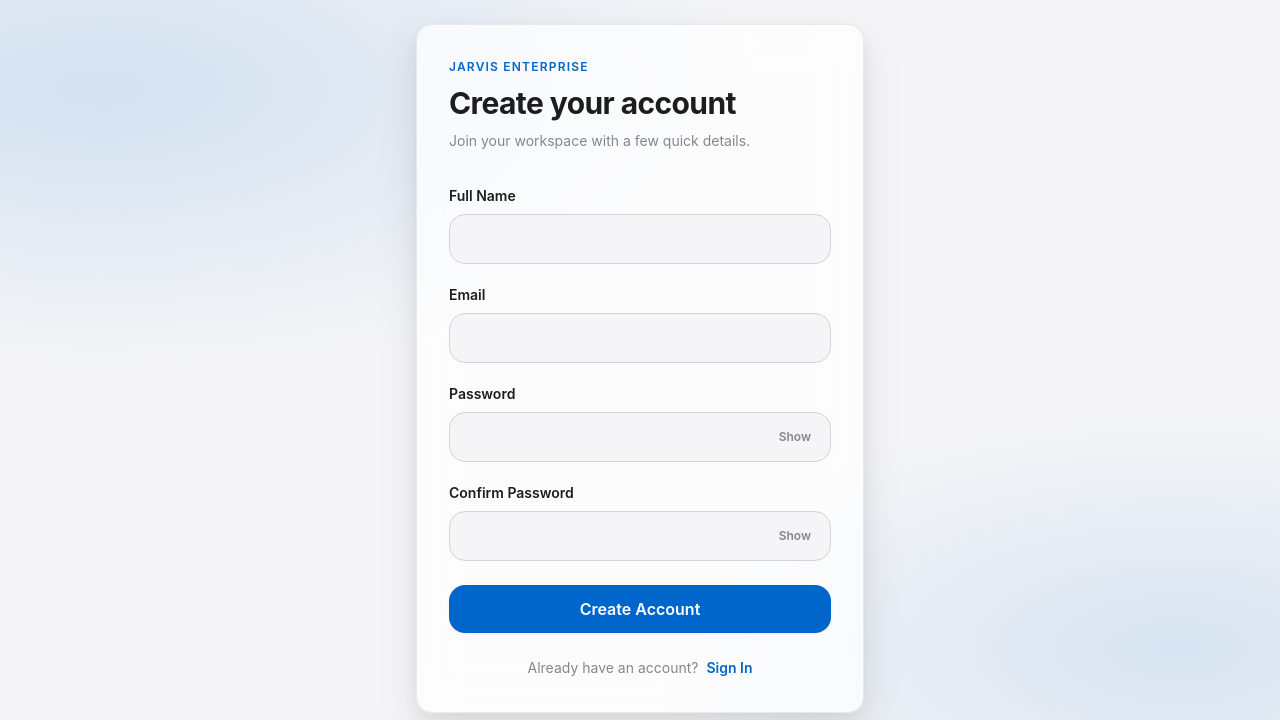
Scenario: SignupComponent › shows a validation message when passwords do not match
Type "Jane Doe" into the field with id "fullName" at [640, 239], box top-left (449, 214), bottom-right (831, 264)
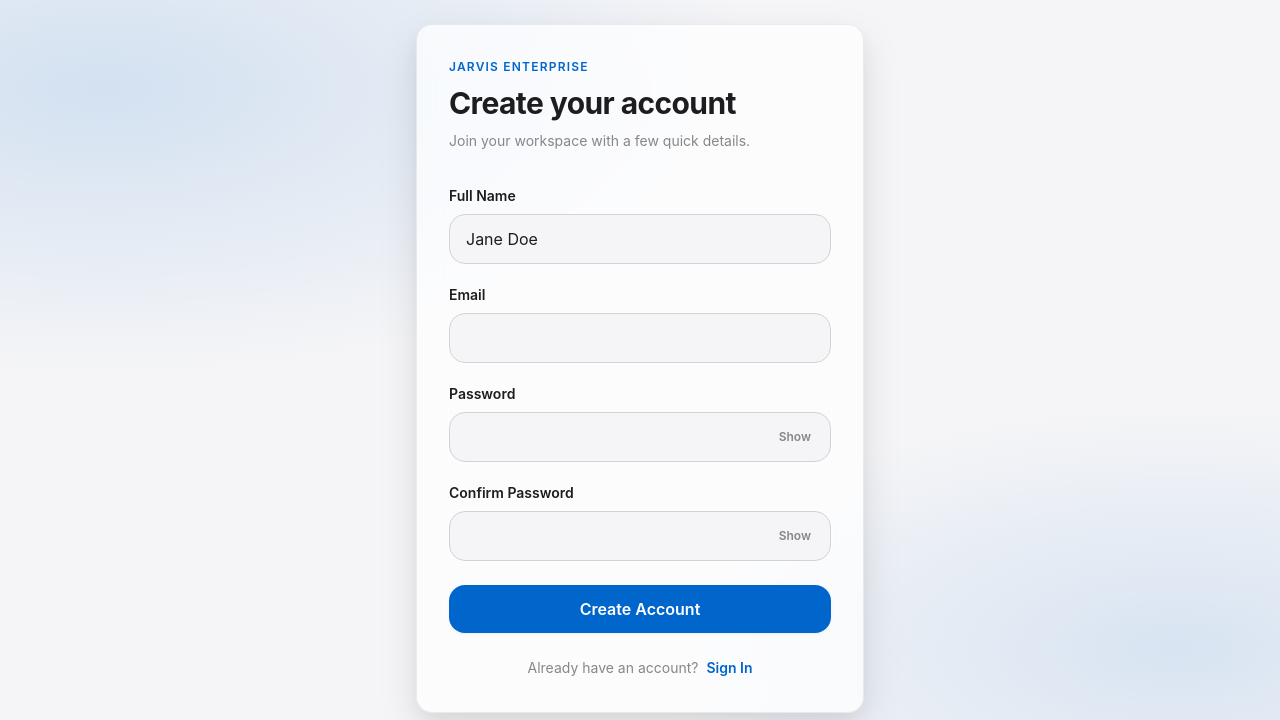
Type "jane.doe@example.com" into the field with id "email" at [640, 338], box top-left (449, 313), bottom-right (831, 363)
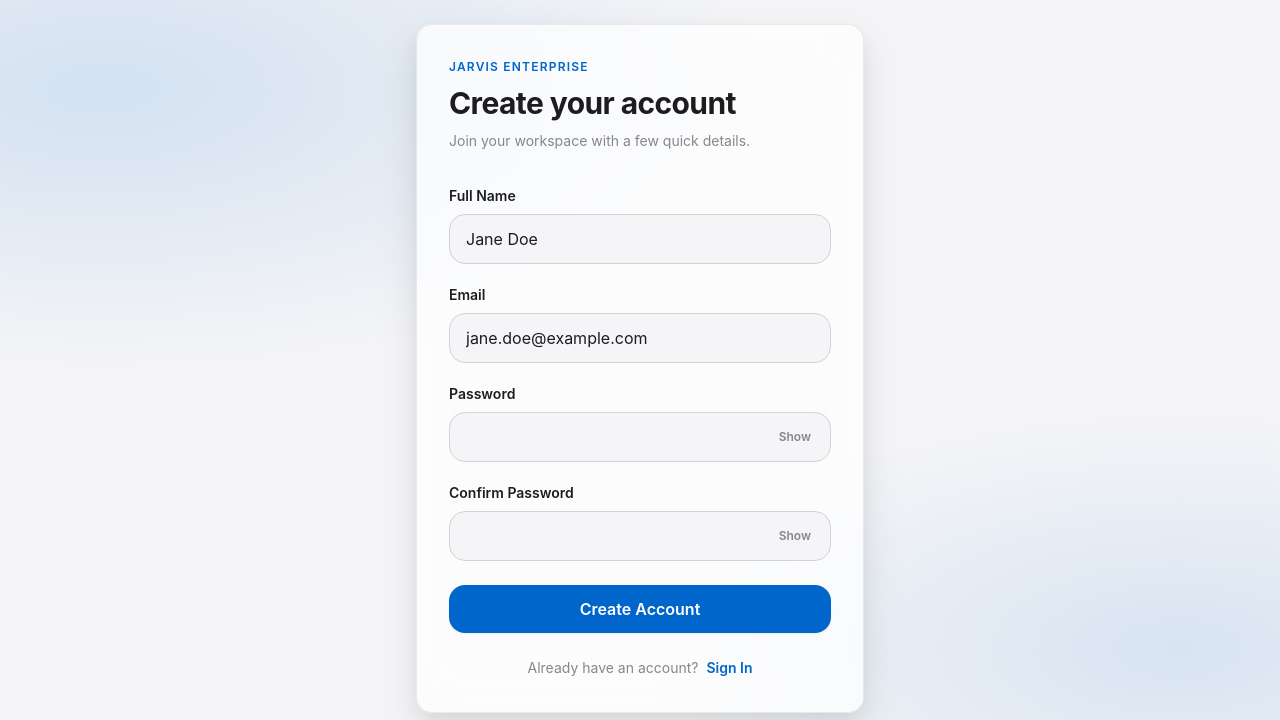
Type "SecurePass1" into the password field labelled "Password" at [640, 437], box top-left (449, 412), bottom-right (831, 462)
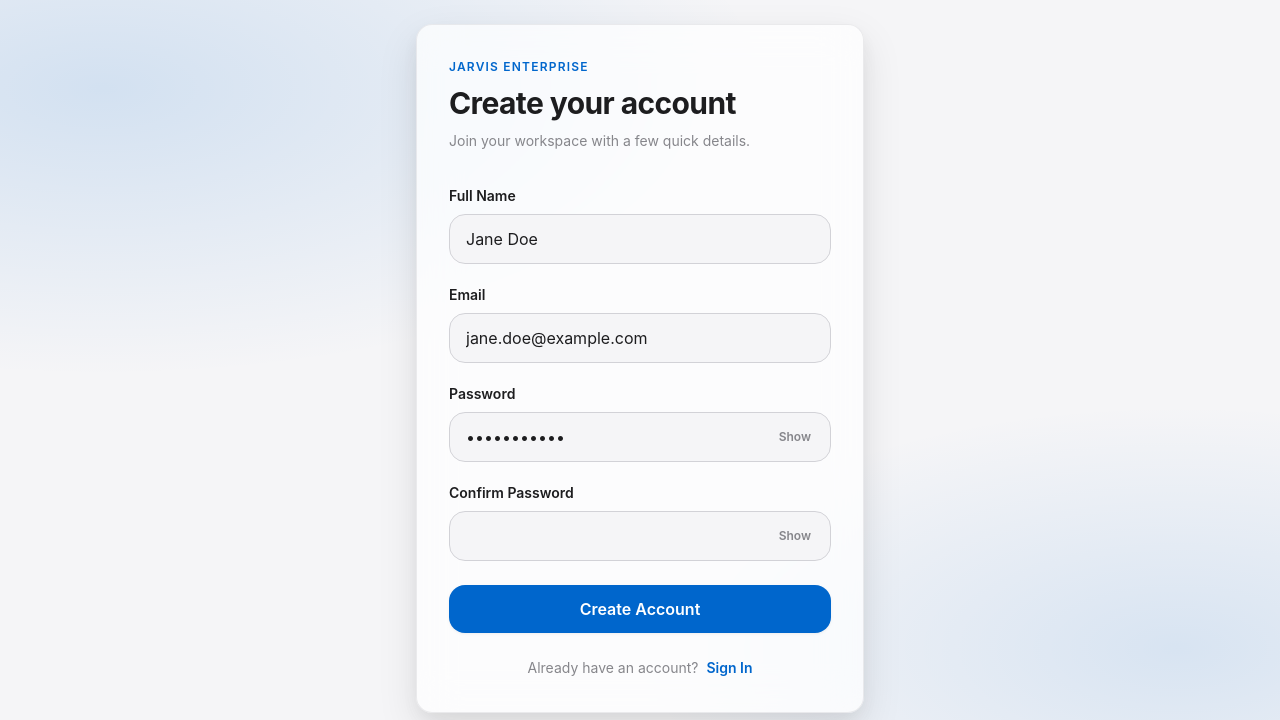
Type "DifferentPass1" into the password field with id "confirmPassword" at [640, 536], box top-left (449, 511), bottom-right (831, 561)
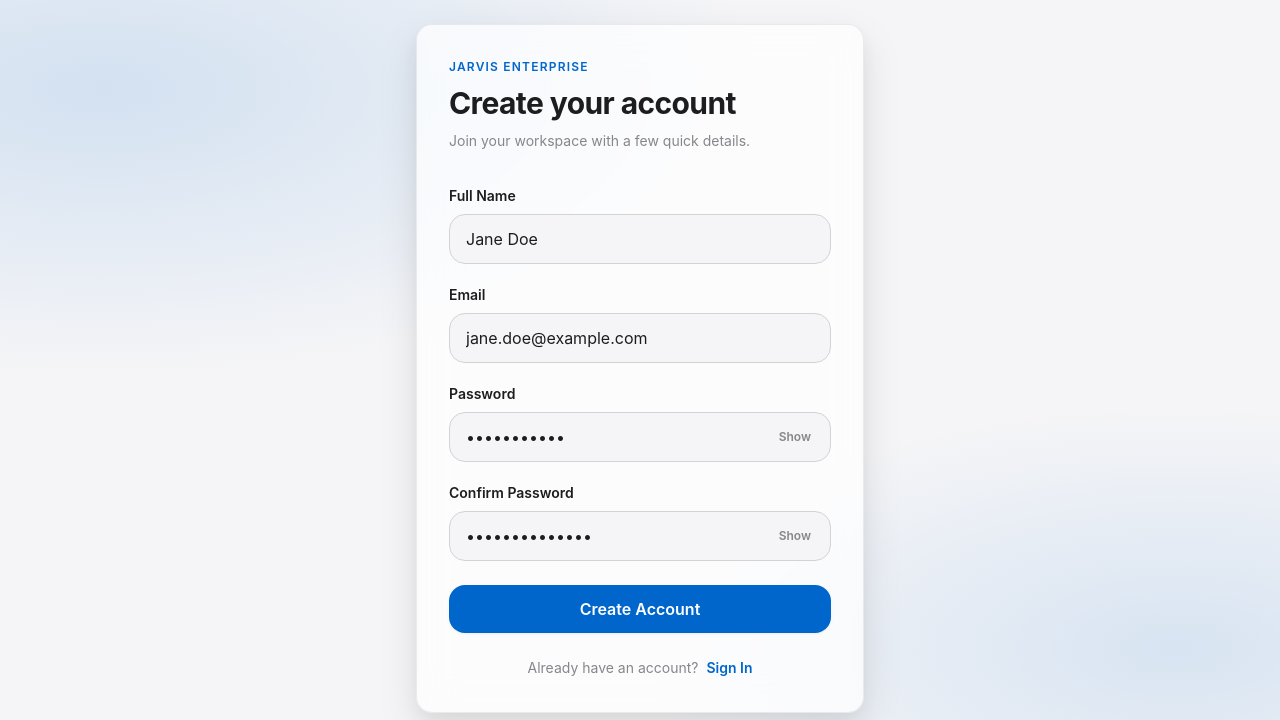
Click the submit button at [640, 609], box top-left (449, 585), bottom-right (831, 633)
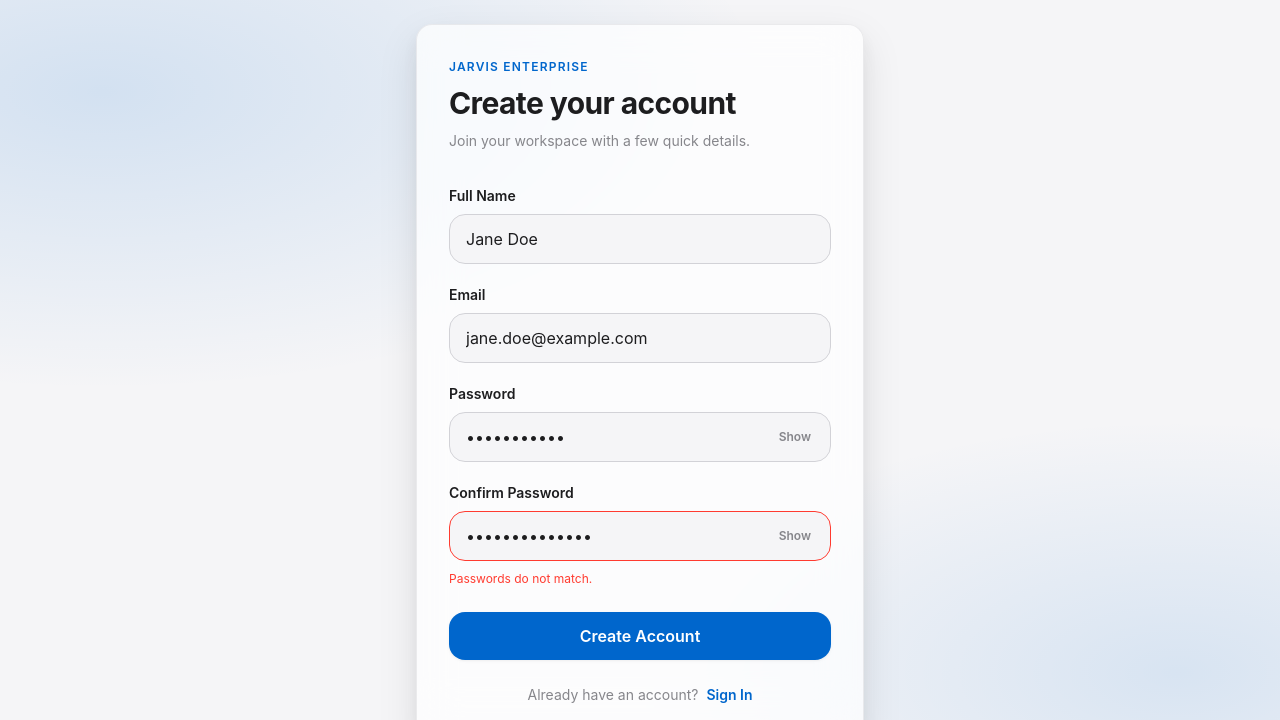
Expected: the message with id "confirmPassword-error" reads "Passwords do not match.", top-left (449, 571), bottom-right (592, 586)
